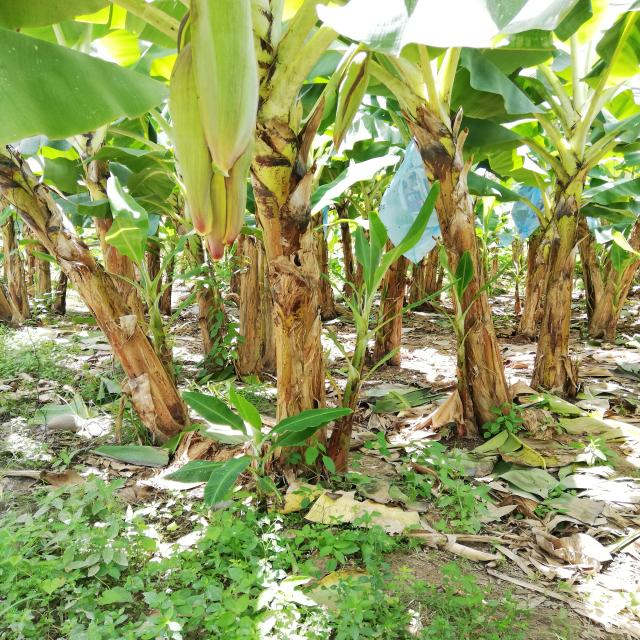Banana-plant: (0, 141, 195, 437), (373, 48, 515, 445), (239, 31, 324, 486), (510, 63, 610, 406)
